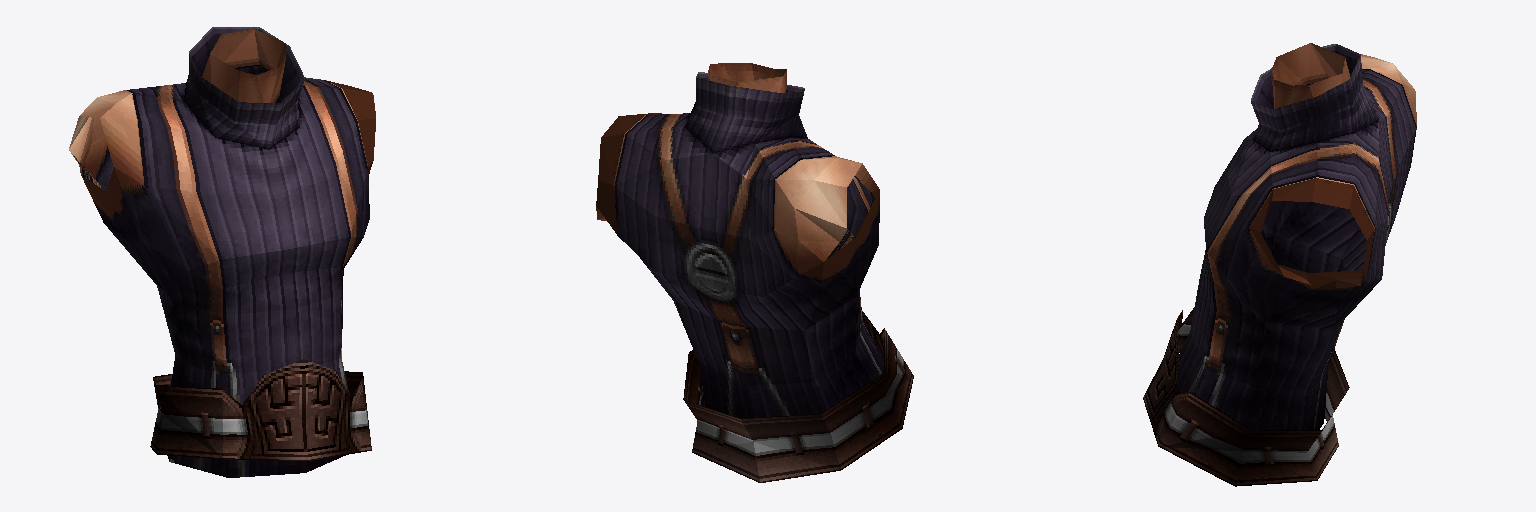
3 views of the same model, side by side, from view 1: azimuth 30°, elevation 25°; view 2: azimuth 150°, elevation 25°; view 3: azimuth 270°, elevation 25° (orthographic).
Parts seen in each view (by area): view 1: 0001_r_sym307, 0002_r_sym307; view 2: 0001_r_sym307, 0002_r_sym307; view 3: 0001_r_sym307, 0002_r_sym307.
Boxes of the visible parts, x1,y1,x2,y2 form: 0001_r_sym307: [69, 27, 375, 477]; 0002_r_sym307: [150, 359, 371, 460]; 0001_r_sym307: [596, 63, 883, 417]; 0002_r_sym307: [683, 311, 913, 482]; 0001_r_sym307: [1176, 43, 1416, 430]; 0002_r_sym307: [1143, 308, 1349, 486].
Bounding box in the file's own units: 0.215 × 0.3091 × 0.1917.
2 materials, 2 textured.